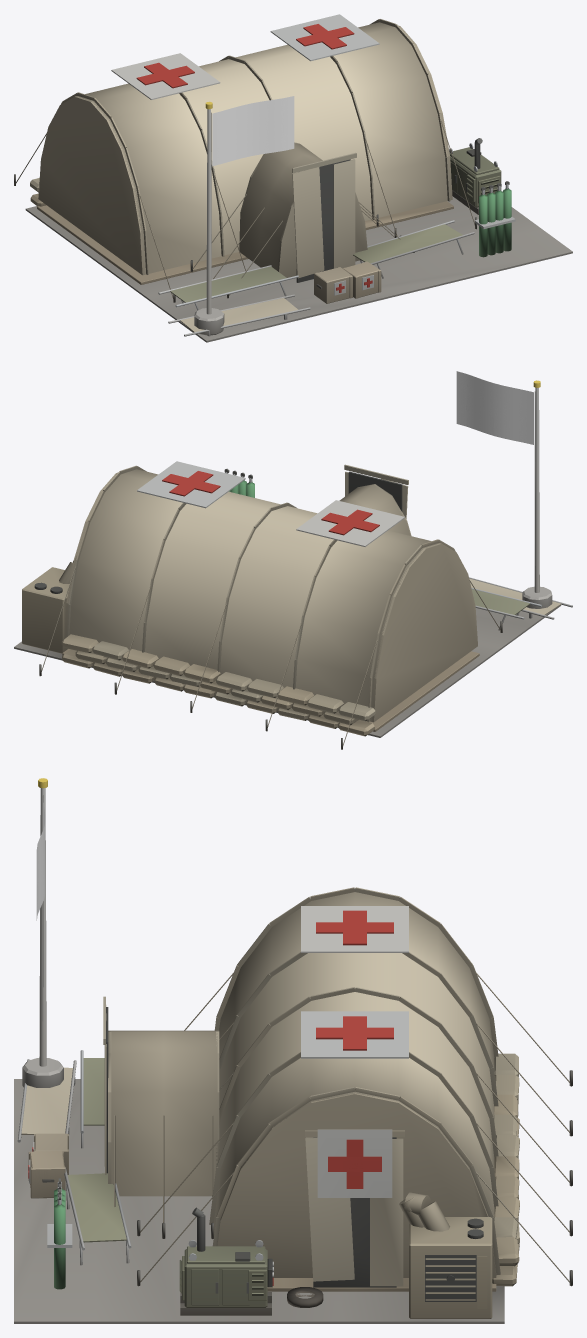
The model's file is struct_hospital_usa.glb.
3 renders of one model, top to bottom at view 1: azimuth 30°, elevation 25°; view 2: azimuth 150°, elevation 25°; view 3: azimuth 270°, elevation 25°, orthographic. The views are drawn at different scales.
Parts seen in each view (by area): view 1: struct_hospital_usa; view 2: struct_hospital_usa; view 3: struct_hospital_usa.
Boxes of the visible parts, x1=… form: struct_hospital_usa: x1=14, y1=14, x2=572, y2=342; struct_hospital_usa: x1=14, y1=371, x2=572, y2=749; struct_hospital_usa: x1=14, y1=778, x2=572, y2=1323.
Size of the model in its own units: 7.21 by 4.11 by 6.72.
